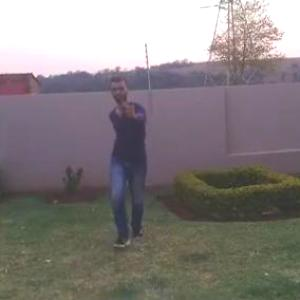takeoff-hand: (117, 93, 142, 122)
